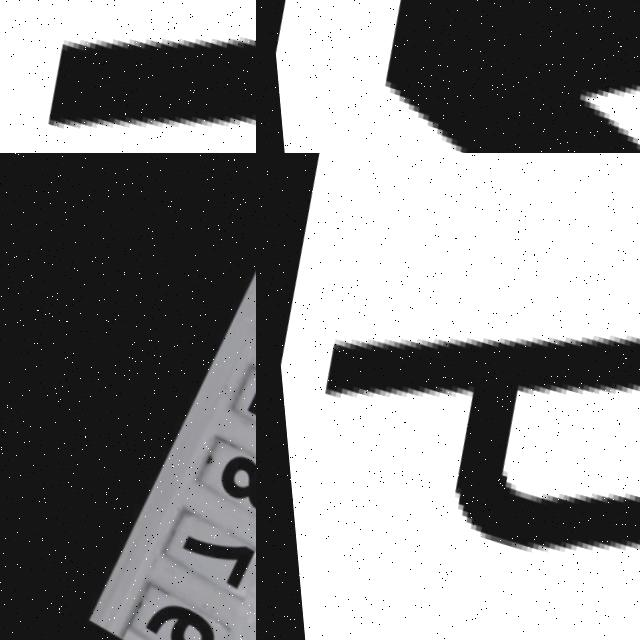2: (221, 358, 256, 457)
7: (147, 502, 256, 602)
8: (184, 434, 256, 534)
9: (115, 580, 230, 640)
M: (0, 0, 256, 153)
Q: (275, 168, 640, 640)
V: (300, 0, 640, 153)
